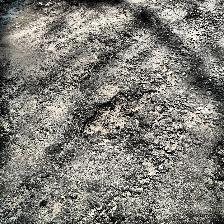pothole: (81, 90, 153, 134)
